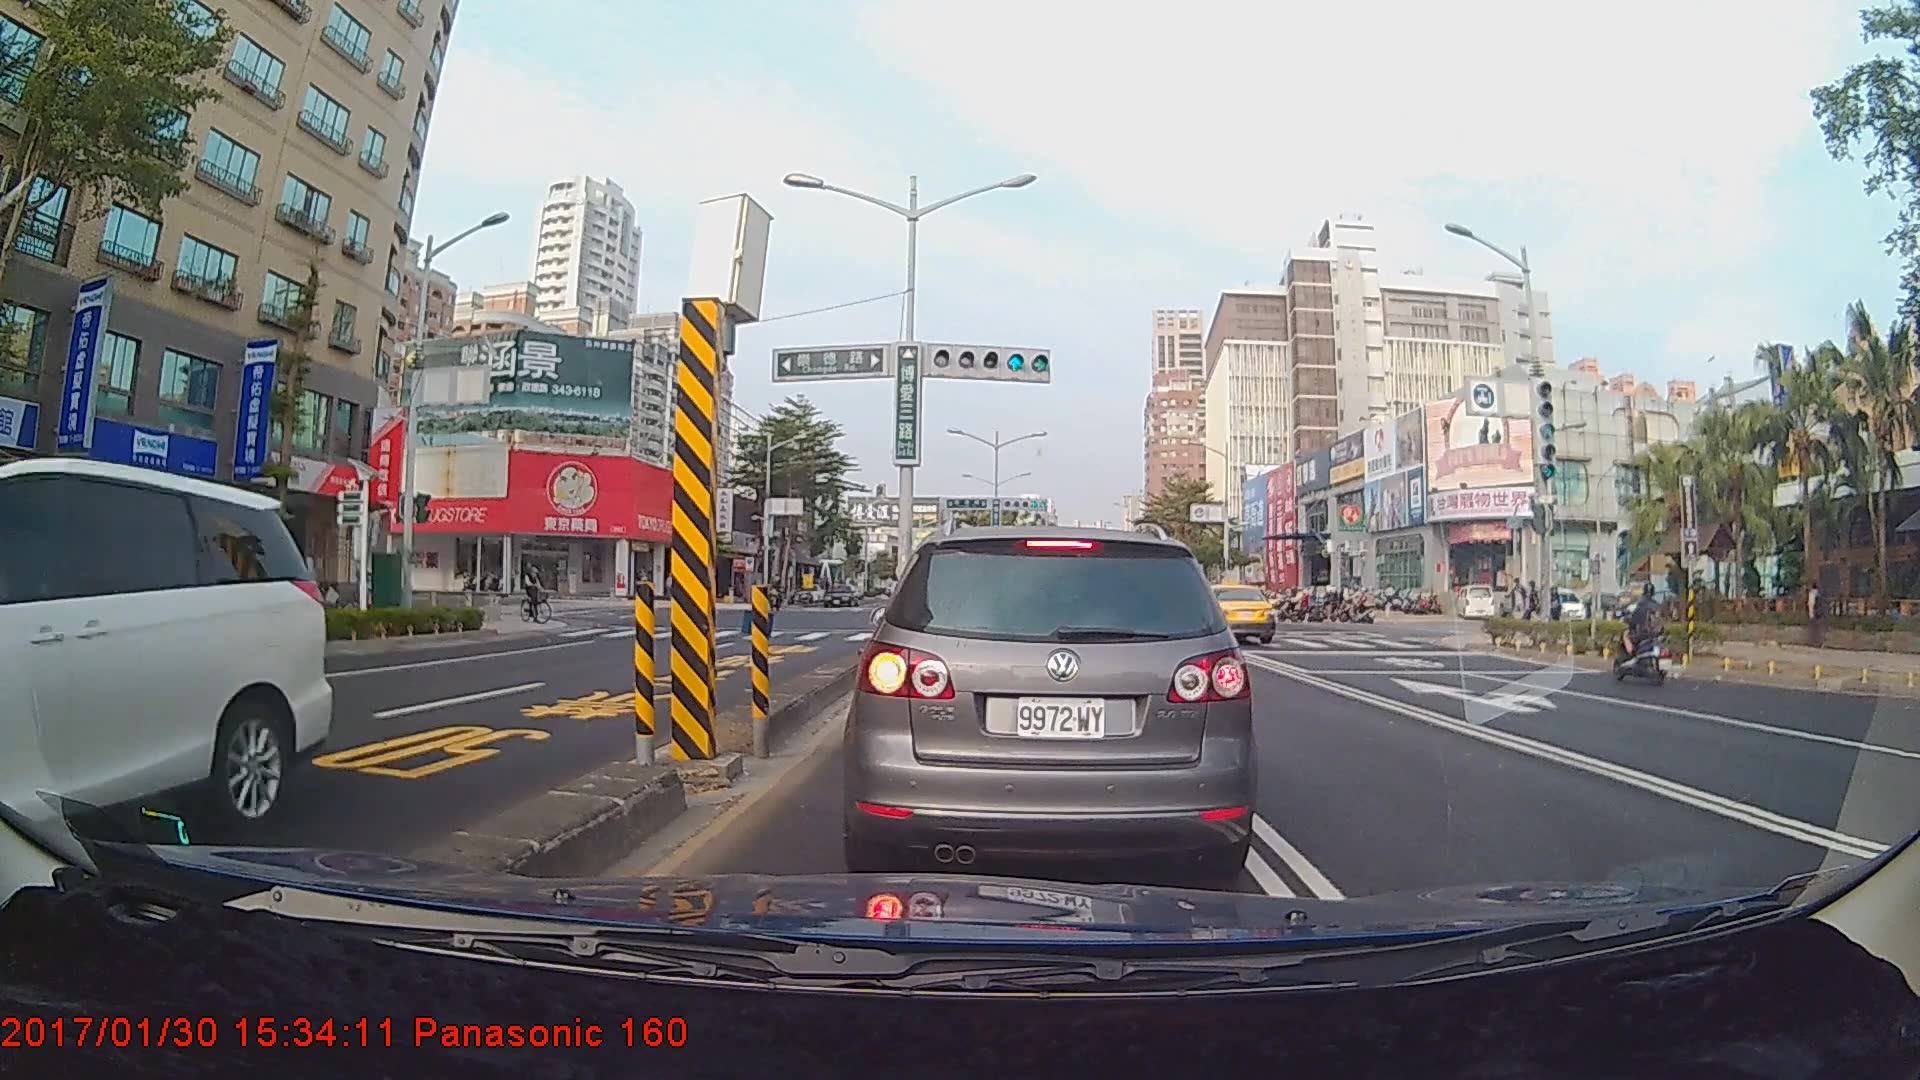pedestrian: (1804, 579, 1829, 647)
rider: (1610, 580, 1677, 689), (518, 559, 561, 629)
vehicle: (0, 452, 326, 905), (854, 520, 1252, 882), (1181, 581, 1276, 644)
